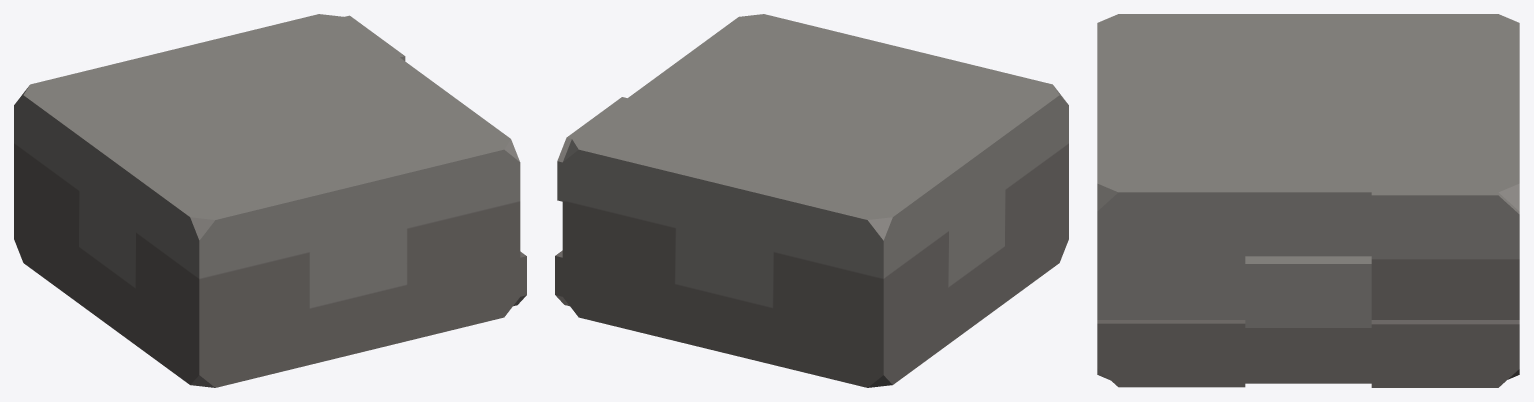
Rendered from Platform_Stone_02.fbx.
3 renders of one model, left to right at view 1: azimuth 30°, elevation 25°; view 2: azimuth 150°, elevation 25°; view 3: azimuth 270°, elevation 25°, orthographic. The views are drawn at different scales.
Parts seen in each view (by area): view 1: Stone_02; view 2: Stone_02; view 3: Stone_02.
Part boxes in pixels (x1,y1,x2,y2): Stone_02: [14, 14, 526, 387]; Stone_02: [555, 14, 1068, 387]; Stone_02: [1097, 14, 1519, 387].
Size of the model in its own units: 82.21 by 39.37 by 78.74.
Materials: 1 (1 with a texture image).
